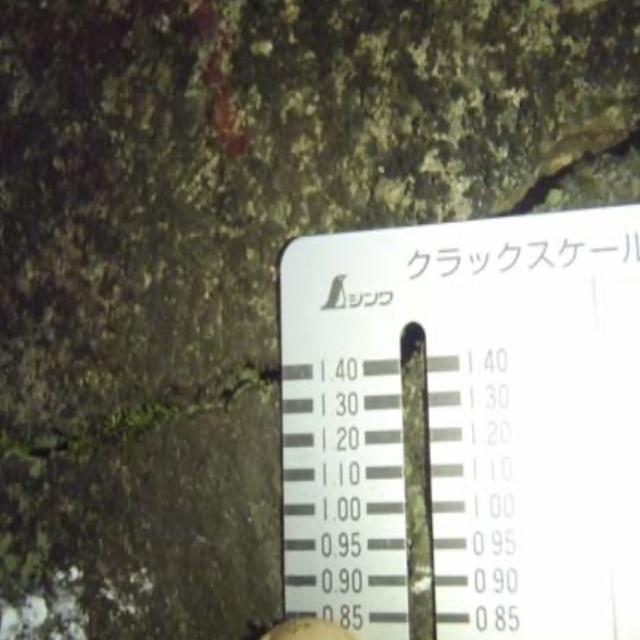crack: (494, 118, 640, 215)
